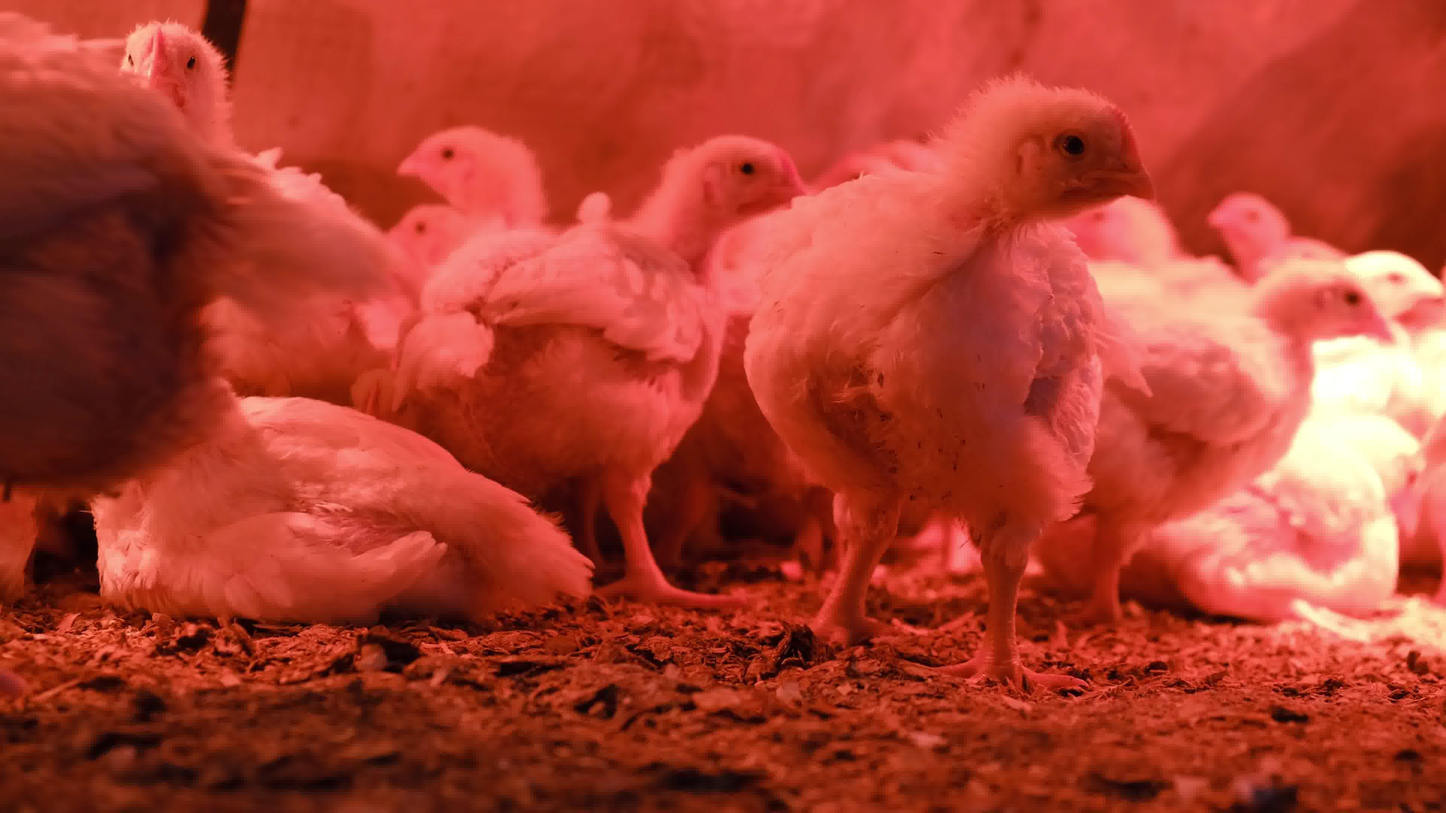AbNormal: (60, 337, 604, 625), (1171, 380, 1446, 614)
Normal: (732, 66, 1209, 689), (386, 132, 810, 617), (0, 4, 405, 499), (1109, 239, 1401, 636), (345, 100, 612, 267), (1145, 147, 1374, 275), (1316, 194, 1446, 405)
